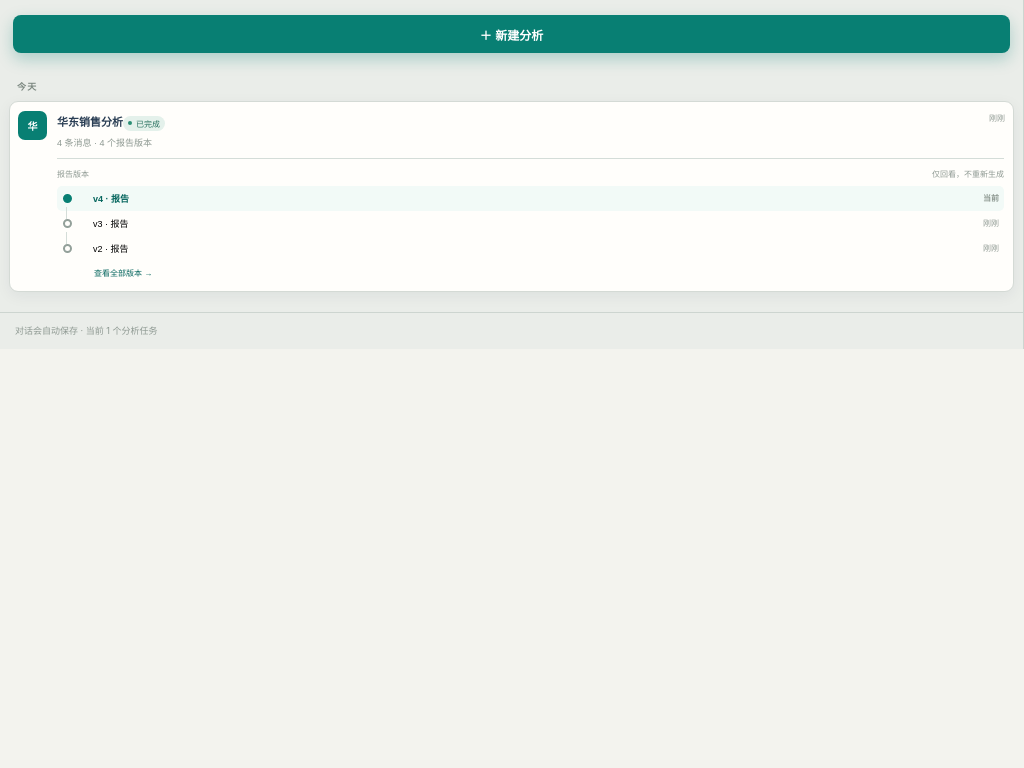
Scenario: SessionRail › >3 versions shows 查看全部版本 → opening a modal with all versions
The image size is (1024, 768).
Expected: the text "v1 · 报告" is not shown
Click the button "查看全部版本 →".
click(123, 273)  # box [88,266,158,279]
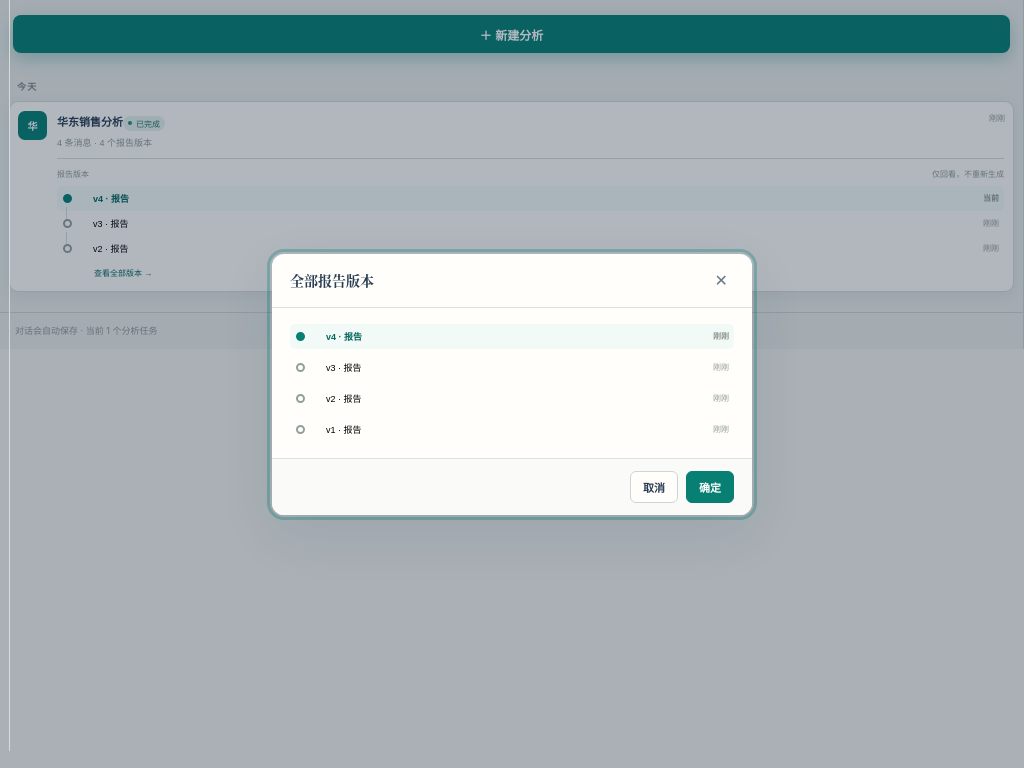
Now the text "v1 · 报告" is shown, box [326,424,362,434]
Now the text "v4 · 报告" is shown, box [326,332,362,342]
